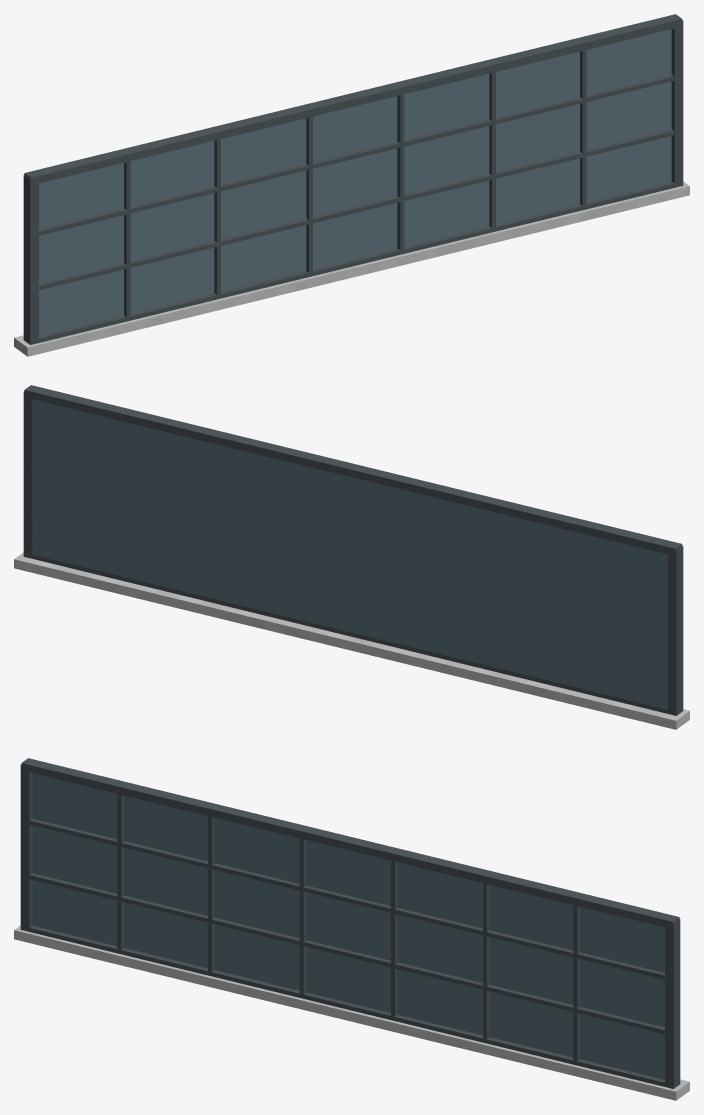
File: front_window.glb
3 renders of one model, top to bottom at view 1: azimuth 30°, elevation 25°; view 2: azimuth 150°, elevation 25°; view 3: azimuth 330°, elevation 25°, orthographic.
Parts seen in each view (by area): view 1: front_window_WindowGlass, front_window_Steel, front_window_Concrete; view 2: front_window_WindowGlass, front_window_Steel, front_window_Concrete; view 3: front_window_WindowGlass, front_window_Steel, front_window_Concrete.
Part boxes in pixels (x1=…): front_window_WindowGlass: x1=39, y1=29, x2=671, y2=335; front_window_Steel: x1=23, y1=14, x2=683, y2=344; front_window_Concrete: x1=14, y1=181, x2=689, y2=356; front_window_WindowGlass: x1=31, y1=399, x2=668, y2=709; front_window_Steel: x1=23, y1=385, x2=683, y2=715; front_window_Concrete: x1=14, y1=552, x2=689, y2=729; front_window_WindowGlass: x1=32, y1=773, x2=664, y2=1079; front_window_Steel: x1=20, y1=758, x2=680, y2=1088; front_window_Concrete: x1=14, y1=925, x2=689, y2=1100.
Bounding box in the file's own units: 9.15 × 2.33 × 0.33.
Materials: 3 (1 with a texture image).
